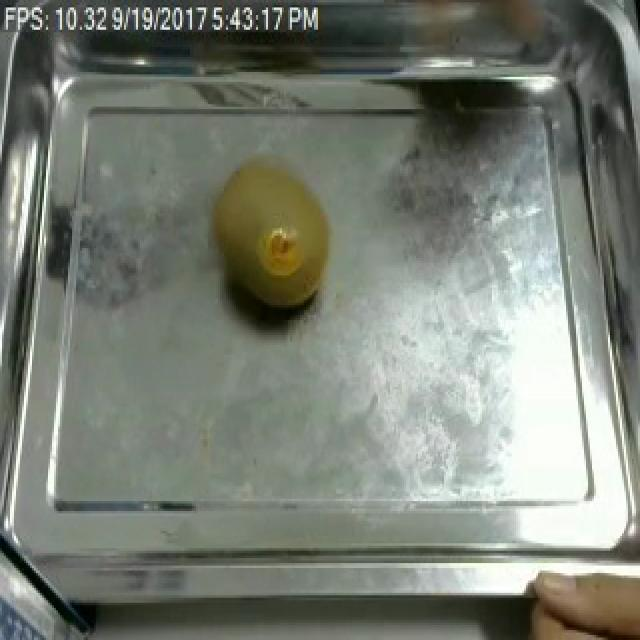Fruit: (204, 149, 344, 320)
